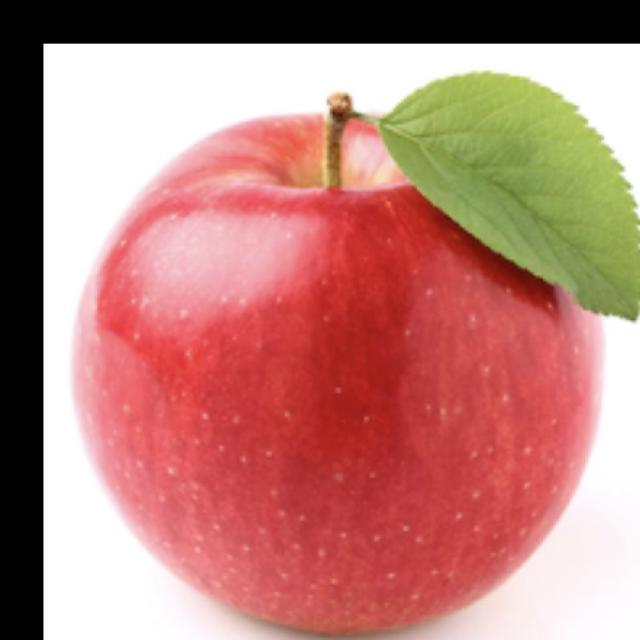Fresh Apple: (101, 105, 586, 640)
